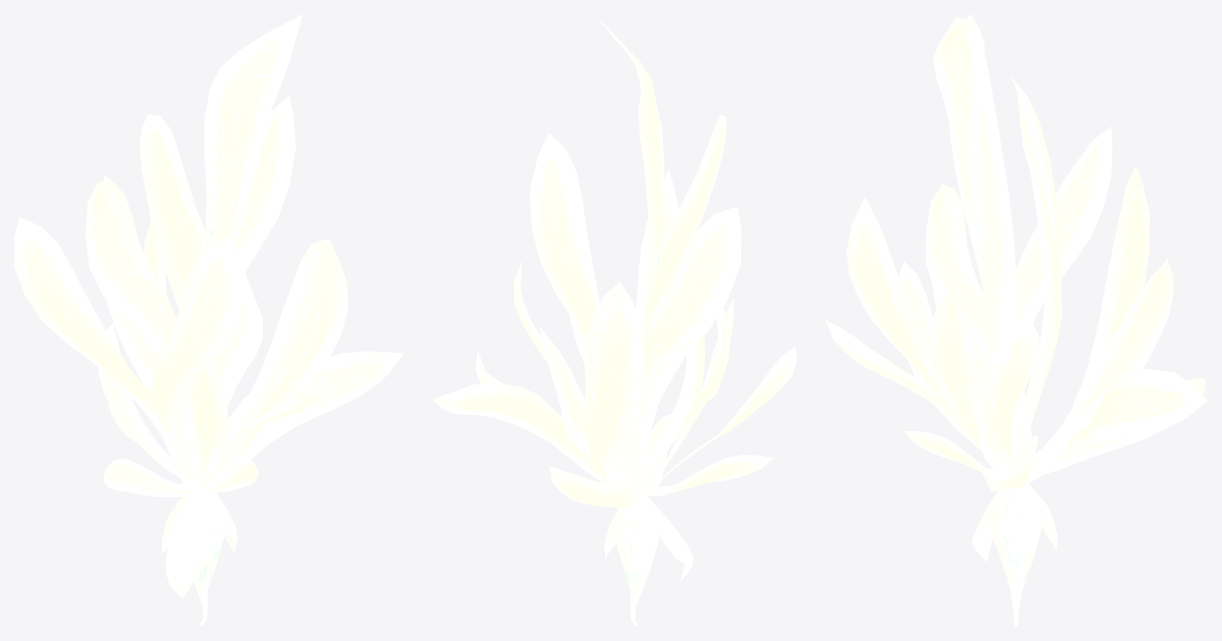
3 views of the same model, side by side, from view 1: azimuth 30°, elevation 25°; view 2: azimuth 150°, elevation 25°; view 3: azimuth 270°, elevation 25° (orthographic). The views are drawn at different scales.
Parts seen in each view (by area): view 1: SM_Marrentil_v3_LOD0; view 2: SM_Marrentil_v3_LOD0; view 3: SM_Marrentil_v3_LOD0.
Part boxes in pixels (<box>): SM_Marrentil_v3_LOD0: <box>14,14,403,626</box>; SM_Marrentil_v3_LOD0: <box>432,14,796,626</box>; SM_Marrentil_v3_LOD0: <box>825,14,1207,626</box>.
Bounding box in the file's own units: 0.4453 × 0.7986 × 0.4272.
Materials: 1 (1 with a texture image).
